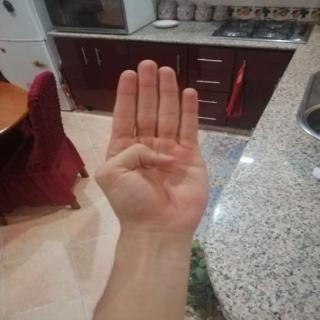KAAF: (78, 51, 232, 249)
